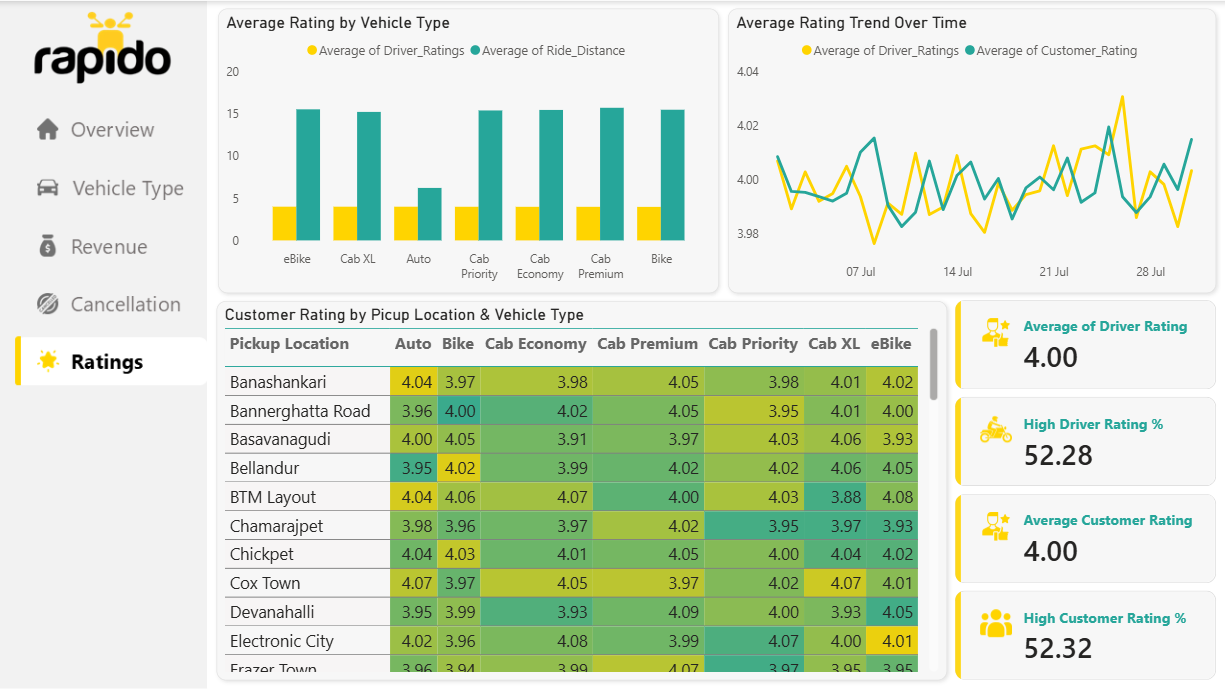

This screenshot's page, from the dashboard's own definition file:
{"tool":"powerbi","page":{"name":"Ratings","canvas":[1280,720],"ordinal":4},"visuals":[{"type":"actionButton","box":[26.7,226.7,175,51.7],"z":0},{"type":"actionButton","box":[26.7,168.3,175,51.7],"z":1000},{"type":"actionButton","box":[26.7,108.3,175,51.7],"z":2000},{"type":"actionButton","box":[26.7,290,175,51.7],"z":3000},{"type":"clusteredColumnChart","title":"Average Rating by Vehicle Type","fields":{"Category":["Bookings.Vehicle_Type"],"Y":["Avg(Bookings.Driver_Ratings)","Avg(Bookings.Ride_Distance)"]},"box":[228.2,7.8,522,297],"z":4000},{"type":"lineChart","title":"Average Rating Trend Over Time","fields":{"Category":["Bookings.Date"],"Y":["Avg(Bookings.Driver_Ratings)","Avg(Bookings.Customer_Rating)"]},"box":[760,8.3,508.3,296.7],"z":5000},{"type":"pivotTable","title":"Customer Rating by Picup Location & Vehicle Type","fields":{"Columns":["Bookings.Vehicle_Type"],"Values":["Avg(Bookings.Customer_Rating)"],"Rows":["Bookings.Pickup_Location"]},"box":[226.6,312.6,761.2,395.4],"z":6000},{"type":"cardVisual","fields":{"Data":["Avg(Bookings.Driver_Ratings)","Bookings.High Driver Rating %","Avg(Bookings.Customer_Rating)","Bookings.High Customer Rating %"]},"box":[990.9,306.3,282.9,409.5],"z":7000}]}

Visuals, with their boxes on the page's 1280x720 design canvas (x1, y1, x2, y2). These are canvas units, not pixel positions in the 1225x691 screenshot, which may show the page scaled, cropped or inside an application window:
actionButton: locate(27, 227, 202, 278)
actionButton: locate(27, 168, 202, 220)
actionButton: locate(27, 108, 202, 160)
actionButton: locate(27, 290, 202, 342)
"Average Rating by Vehicle Type" clusteredColumnChart: locate(228, 8, 750, 305)
"Average Rating Trend Over Time" lineChart: locate(760, 8, 1268, 305)
"Customer Rating by Picup Location & Vehicle Type" pivotTable: locate(227, 313, 988, 708)
cardVisual - Avg(Bookings.Driver_Ratings) x Bookings.High Driver Rating %: locate(991, 306, 1274, 716)
